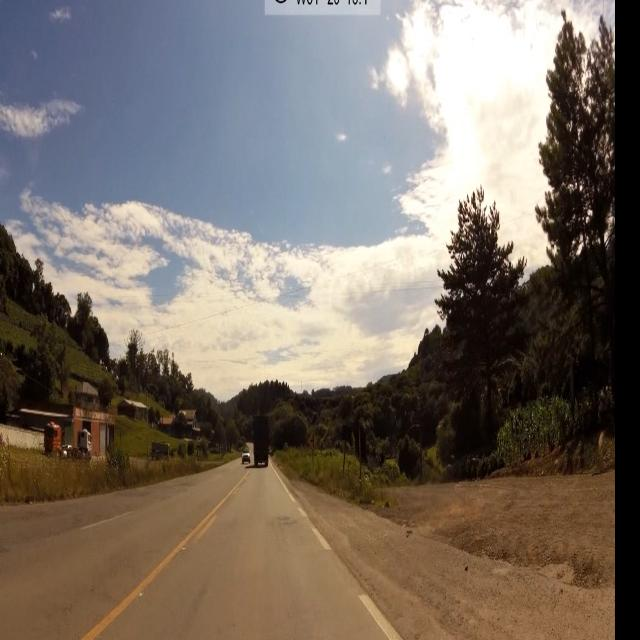A-7a: (308, 432, 318, 452)
